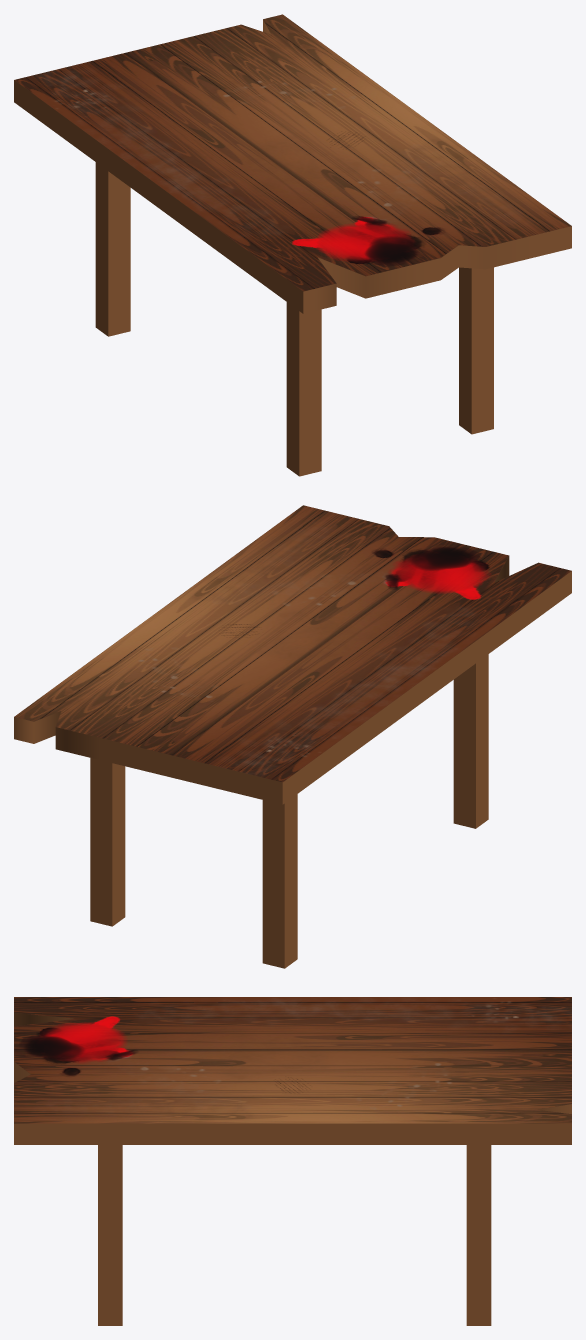
The model's file is obj_wooden_desk.fbx.
3 renders of one model, top to bottom at view 1: azimuth 30°, elevation 25°; view 2: azimuth 150°, elevation 25°; view 3: azimuth 270°, elevation 25°, orthographic. The views are drawn at different scales.
Visible parts, largest first — view 1: obj_wooden_desk; view 2: obj_wooden_desk; view 3: obj_wooden_desk.
Boxes of the visible parts, bbox=[...] form: obj_wooden_desk: bbox=[14, 14, 571, 476]; obj_wooden_desk: bbox=[14, 505, 571, 968]; obj_wooden_desk: bbox=[14, 997, 571, 1325].
Size of the model in its own units: 1.37 by 1.1 by 2.55.
Materials: 1 (1 with a texture image).
